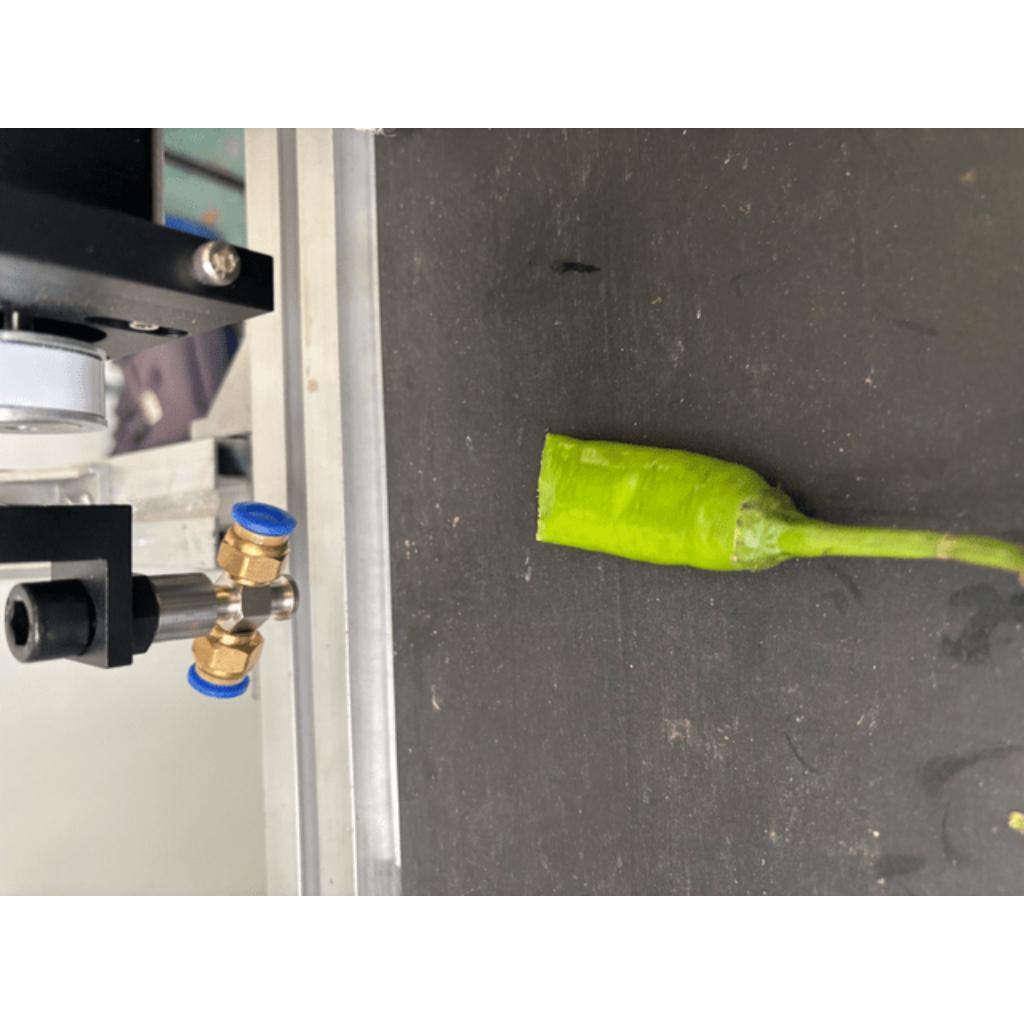chili: (533, 427, 791, 576)
